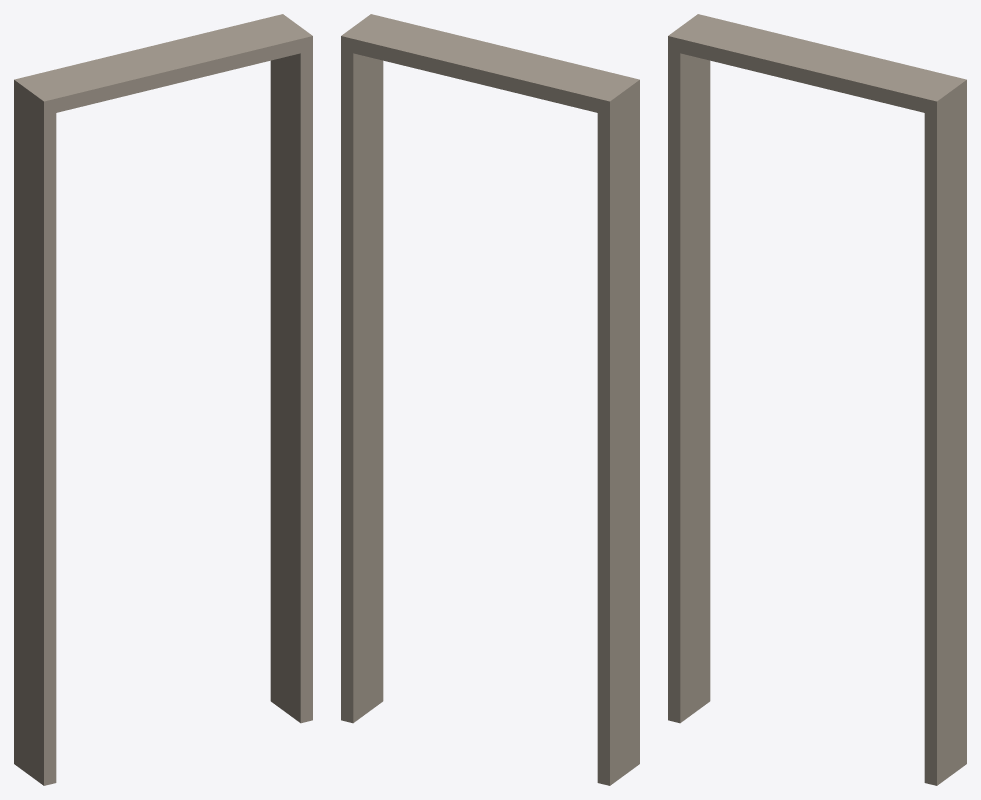
File: SM_Door_Bath_Frame.fbx
The picture shows the model from 3 angles, left to right: view 1: azimuth 30°, elevation 25°; view 2: azimuth 150°, elevation 25°; view 3: azimuth 330°, elevation 25°; orthographic projection.
Parts seen in each view (by area): view 1: SM_Door_Bath_Frame; view 2: SM_Door_Bath_Frame; view 3: SM_Door_Bath_Frame.
Boxes of the visible parts, x1,y1,x2,y2 form: SM_Door_Bath_Frame: [14, 14, 312, 785]; SM_Door_Bath_Frame: [341, 14, 639, 785]; SM_Door_Bath_Frame: [668, 14, 966, 785].
Bounding box in the file's own units: 88 × 214 × 17.
